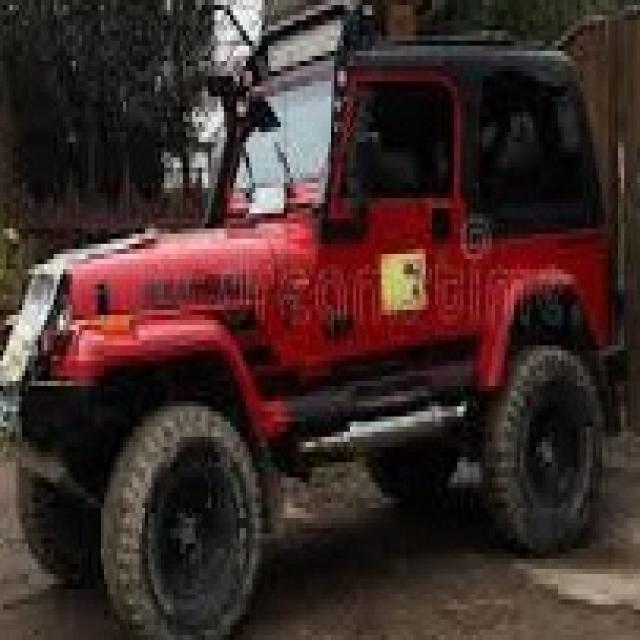red: (14, 42, 631, 484)
